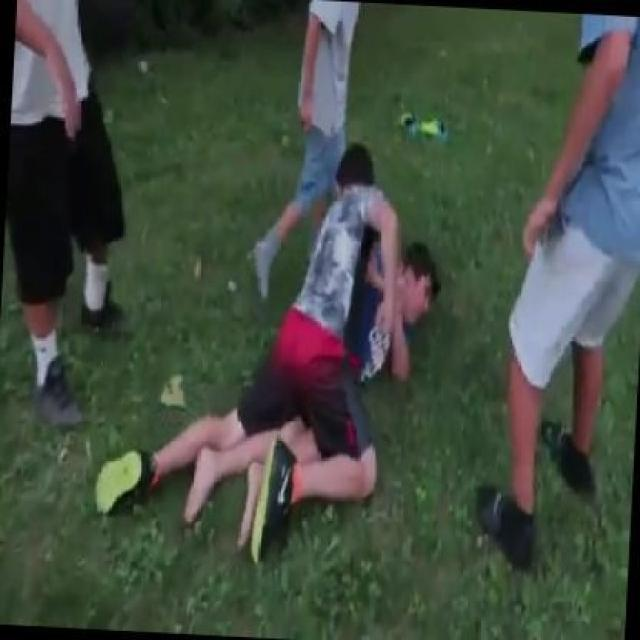fight: (94, 138, 468, 558)
non-fight: (466, 0, 638, 623), (0, 0, 130, 405)
